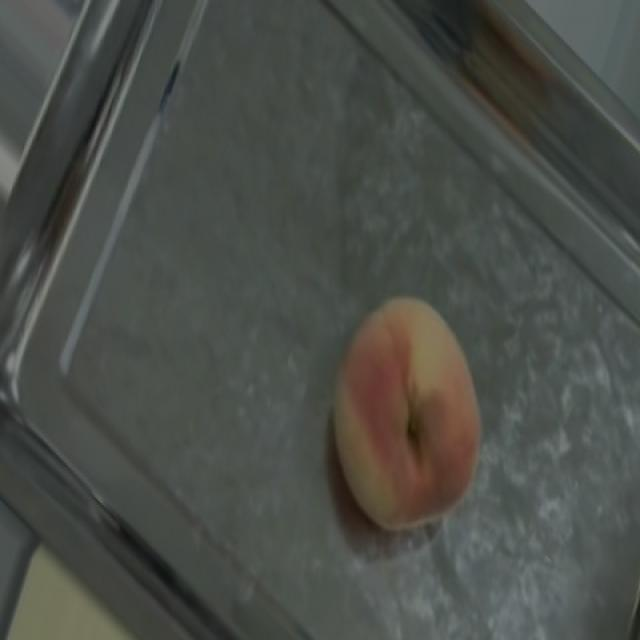Fruit: (293, 270, 512, 556), (0, 513, 181, 640)
